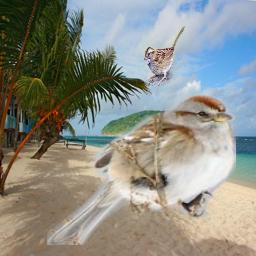Sparrow: (47, 94, 236, 245), (144, 26, 185, 86)
